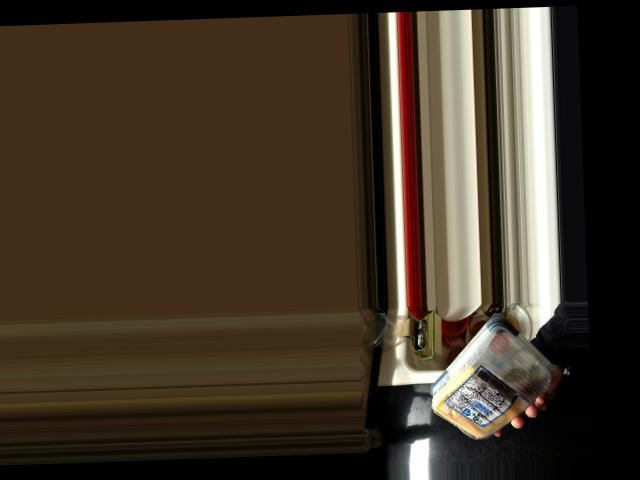cheese: (427, 329, 555, 433)
